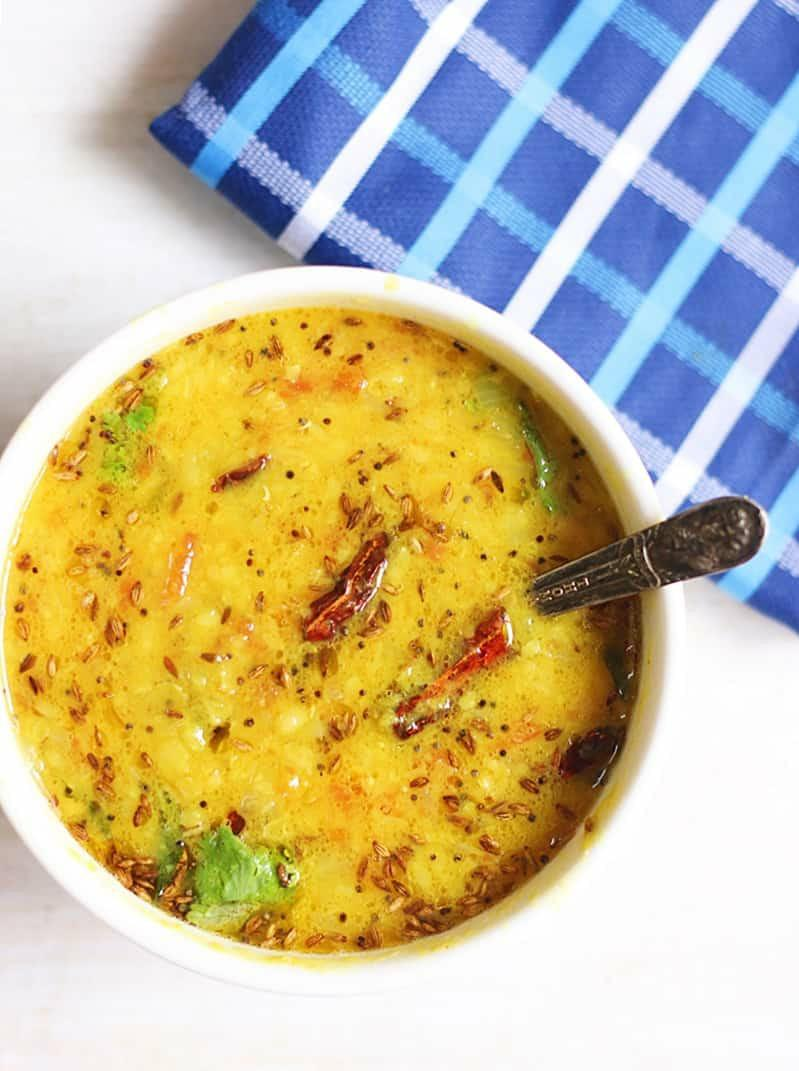Dal: (0, 310, 644, 949)
